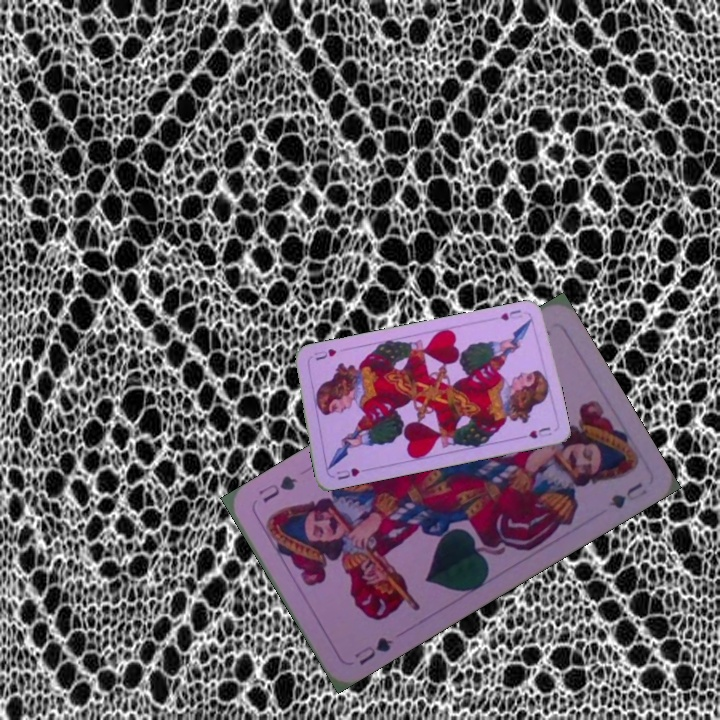GU: (350, 633, 395, 668)
HU: (332, 464, 362, 482), (496, 306, 526, 323)
